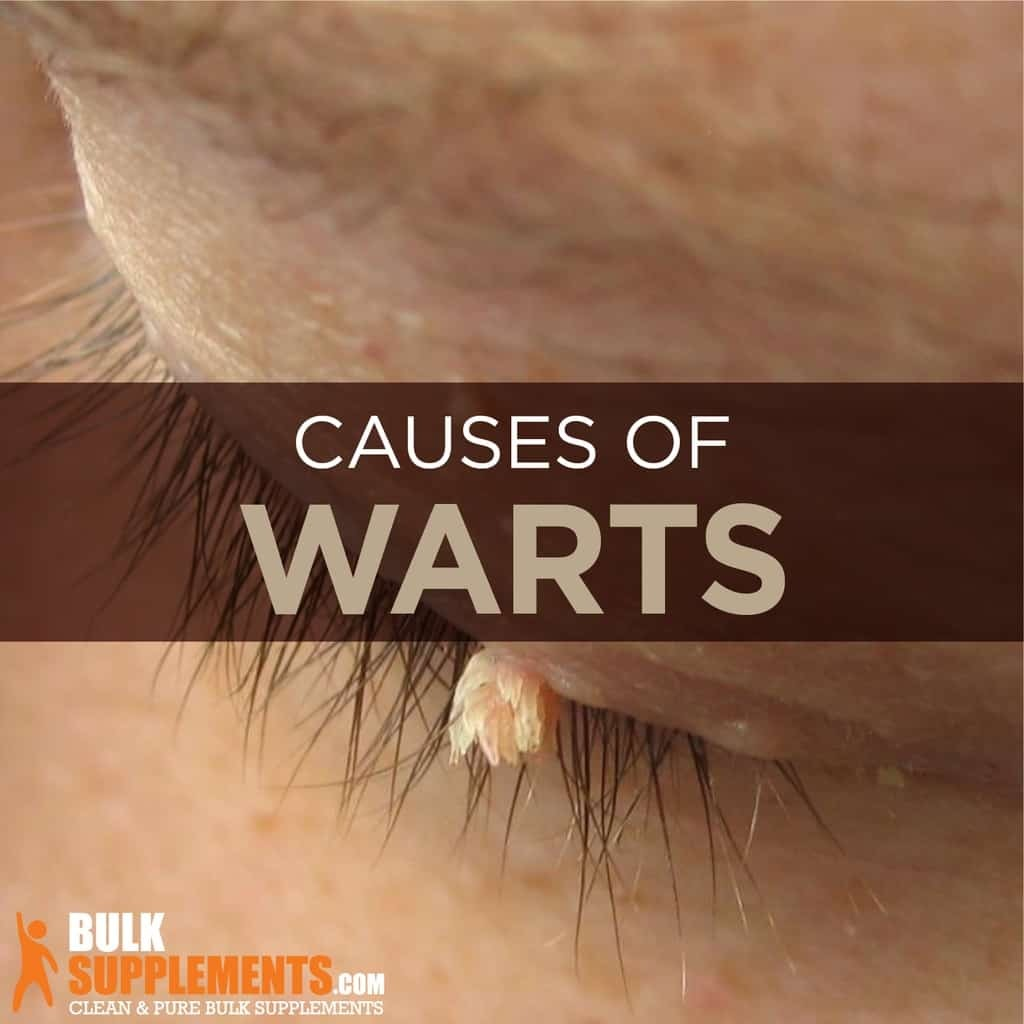Warts: (421, 643, 596, 790)
